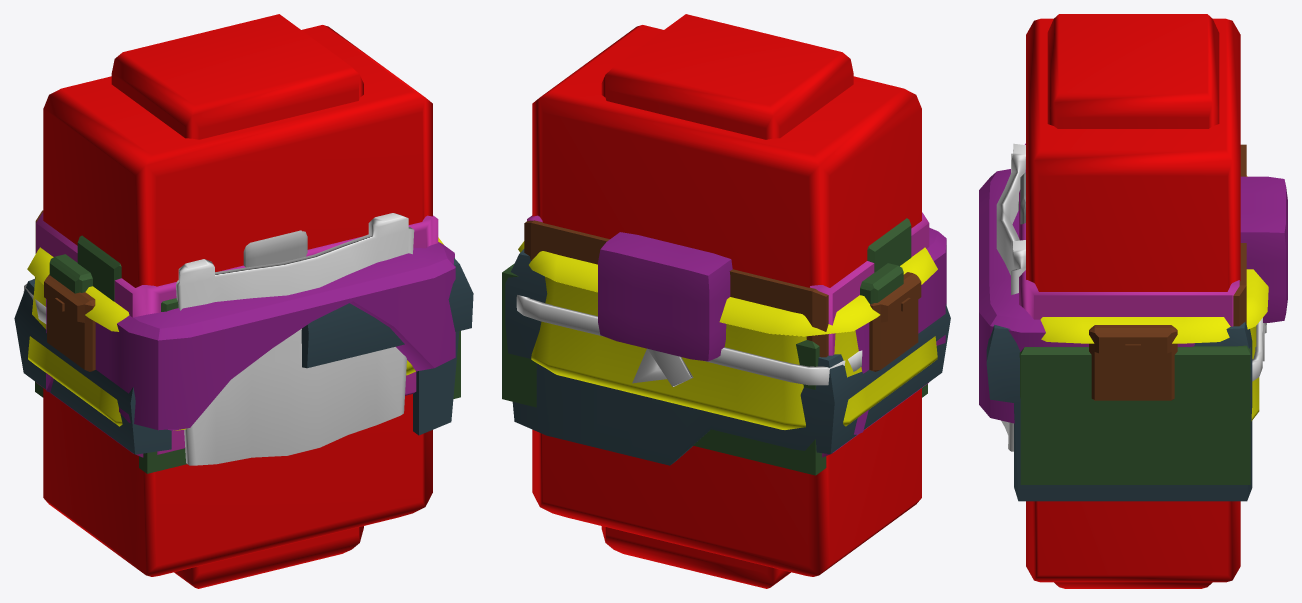
The model's file is BodyParts103.fbx.
The picture shows the model from 3 angles, left to right: view 1: azimuth 30°, elevation 25°; view 2: azimuth 150°, elevation 25°; view 3: azimuth 270°, elevation 25°; orthographic projection. The views are drawn at different scales.
Parts seen in each view (by area): view 1: BodyC, HairC1, ApronC, BodyA, HairC2, PoloC, PantC, HairC3, PantC_W_Pocket, MainHair; view 2: BodyC, BodyA, PoloC, HairC2, HairC1, PantC_W_Pocket, HairC3, ApronC, PantC; view 3: BodyC, HairC3, BodyA, HairC1, HairC2, PantC_W_Pocket, PantC, PoloC, ApronC.
Boxes of the visible parts, x1,y1,x2,y2 form: BodyC: [43, 25, 432, 576]; HairC1: [46, 242, 455, 430]; ApronC: [23, 213, 414, 465]; BodyA: [111, 14, 363, 588]; HairC2: [14, 258, 473, 454]; PoloC: [27, 237, 443, 430]; PantC: [36, 212, 438, 457]; HairC3: [35, 235, 460, 473]; PantC_W_Pocket: [35, 210, 95, 371]; MainHair: [243, 230, 307, 267]; BodyC: [532, 25, 921, 576]; BodyA: [601, 14, 853, 588]; PoloC: [518, 241, 937, 429]; HairC2: [505, 249, 950, 465]; HairC1: [598, 227, 946, 434]; PantC_W_Pocket: [524, 220, 921, 371]; HairC3: [502, 218, 927, 475]; ApronC: [516, 295, 862, 386]; PantC: [527, 212, 929, 457]; BodyC: [1026, 18, 1240, 582]; HairC3: [1018, 202, 1250, 484]; BodyA: [1047, 14, 1219, 588]; HairC1: [979, 169, 1287, 423]; HairC2: [986, 322, 1252, 501]; PantC_W_Pocket: [1089, 144, 1246, 400]; PantC: [1019, 143, 1239, 326]; PoloC: [1040, 175, 1268, 421]; ApronC: [996, 143, 1266, 451].
Bounding box in the file's own units: 165 × 215 × 120.
